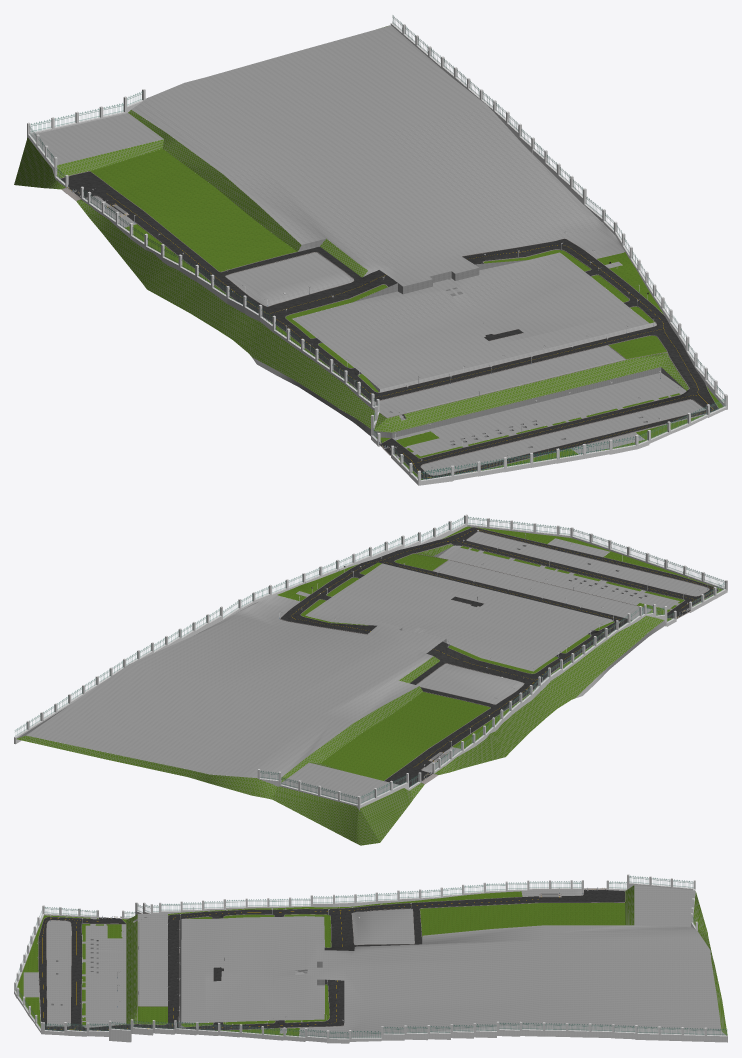
3 views of the same model, one above another, from view 1: azimuth 30°, elevation 25°; view 2: azimuth 150°, elevation 25°; view 3: azimuth 270°, elevation 25° (orthographic). The views are drawn at different scales.
Visible parts, largest first — view 1: CJ-DJ001带透明通道, CJ-HSML, 围墙带透明通道; view 2: CJ-DJ001带透明通道, CJ-HSML, 围墙带透明通道; view 3: CJ-DJ001带透明通道, 围墙带透明通道, CJ-HSML.
Boxes of the visible parts, <box> form: CJ-DJ001带透明通道: <box>14,25,723,479</box>; CJ-HSML: <box>60,171,719,479</box>; 围墙带透明通道: <box>27,15,727,485</box>; CJ-DJ001带透明通道: <box>16,526,722,845</box>; CJ-HSML: <box>280,527,719,787</box>; 围墙带透明通道: <box>14,514,727,811</box>; CJ-DJ001带透明通道: <box>16,885,727,1038</box>; 围墙带透明通道: <box>14,874,727,1043</box>; CJ-HSML: <box>38,889,625,1031</box>.
Bounding box in the file's own units: 413 × 58.97 × 783.
33 materials, 12 textured.
